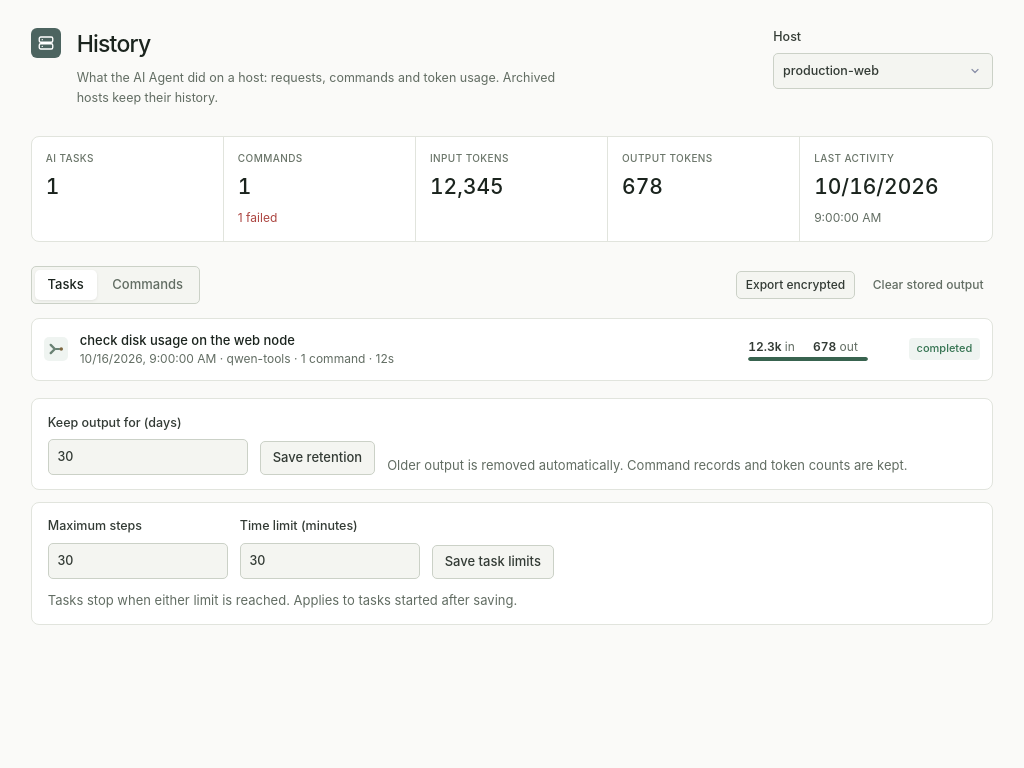
Test case: HostHistoryTab › reports where the export went and that it was cut at the row limit
Expected: the text "check disk usage on the web node" is shown, x1=80 y1=332 x2=295 y2=348
Step 1. Click the button "Export encrypted" → (795, 285), box x1=736 y1=271 x2=855 y2=299
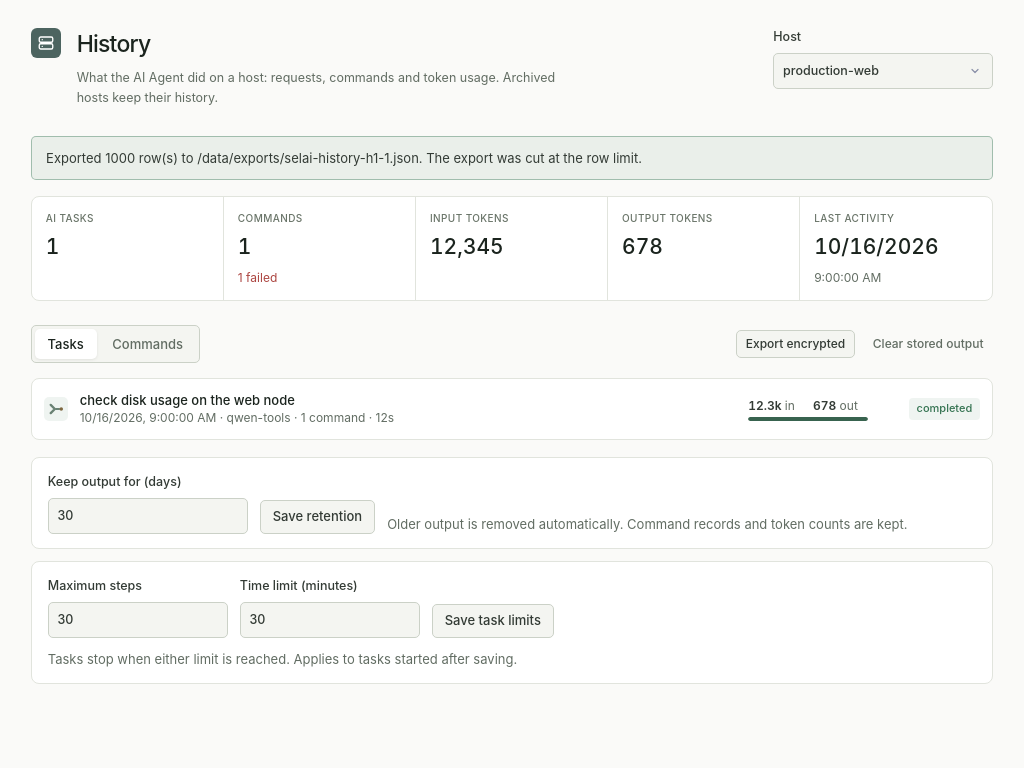
Expected: the message shows "Exported 1000 row(s) to /data/exports/selai-history-h1-1.json. The export was cut at the row limit.", x1=46 y1=150 x2=642 y2=166
